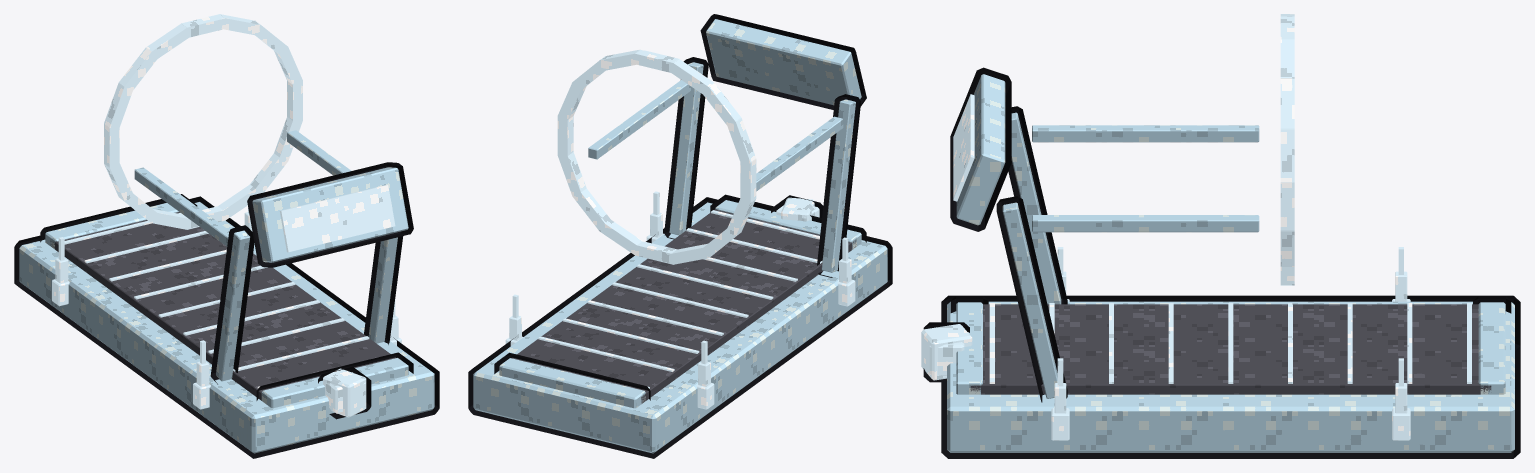
Rendered from treadmill_09.glb.
The picture shows the model from 3 angles, left to right: view 1: azimuth 30°, elevation 25°; view 2: azimuth 150°, elevation 25°; view 3: azimuth 270°, elevation 25°; orthographic projection. The views are drawn at different scales.
Parts seen in each view (by area): view 1: model; view 2: model; view 3: model.
Boxes of the visible parts, x1,y1,x2,y2 form: model: (14, 14, 439, 458); model: (468, 14, 892, 458); model: (921, 14, 1520, 458).
Size of the model in its own units: 1.33 by 1.96 by 2.82.
Materials: 4 (3 with a texture image).
